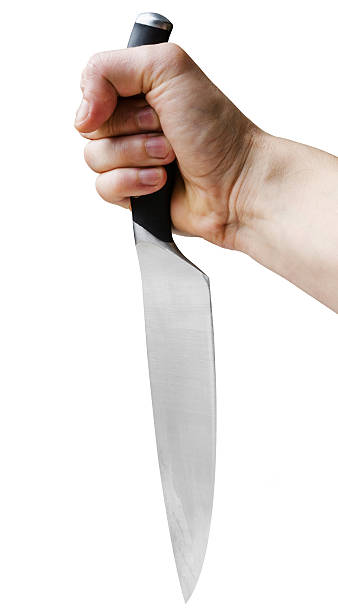knife: (125, 9, 218, 602)
